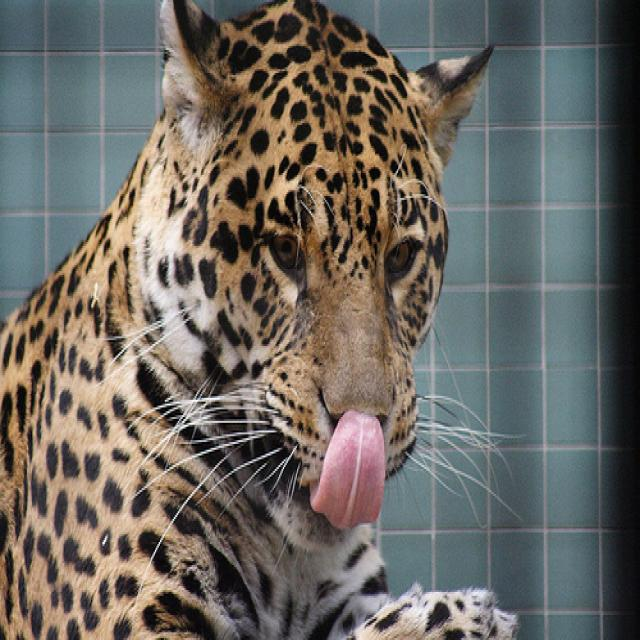Leopard: (0, 0, 525, 636)
